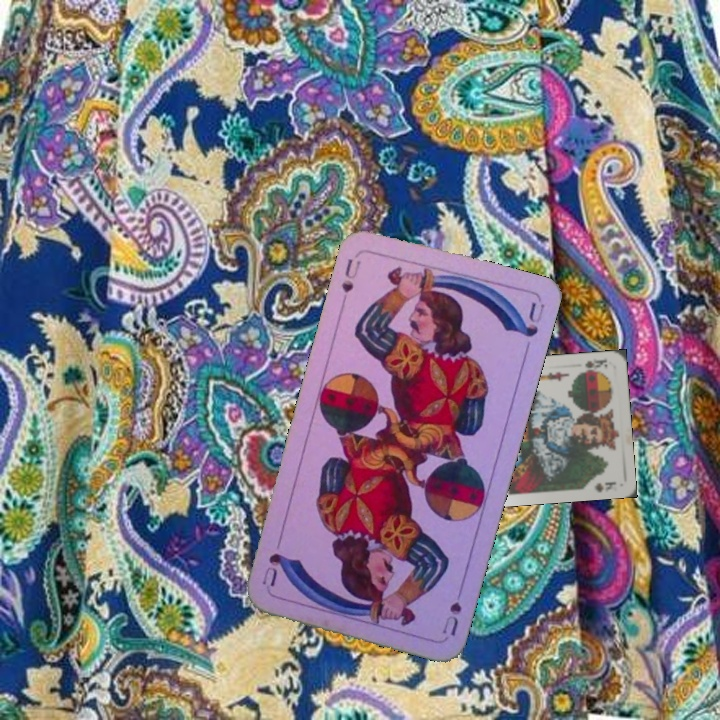SK: (575, 354, 610, 375)
SU: (438, 580, 466, 638), (337, 254, 364, 296)
